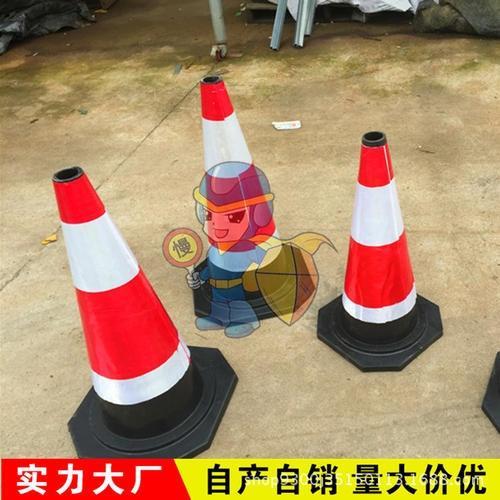cone_barrel: (33, 165, 211, 437), (319, 134, 437, 357), (195, 70, 298, 306)
